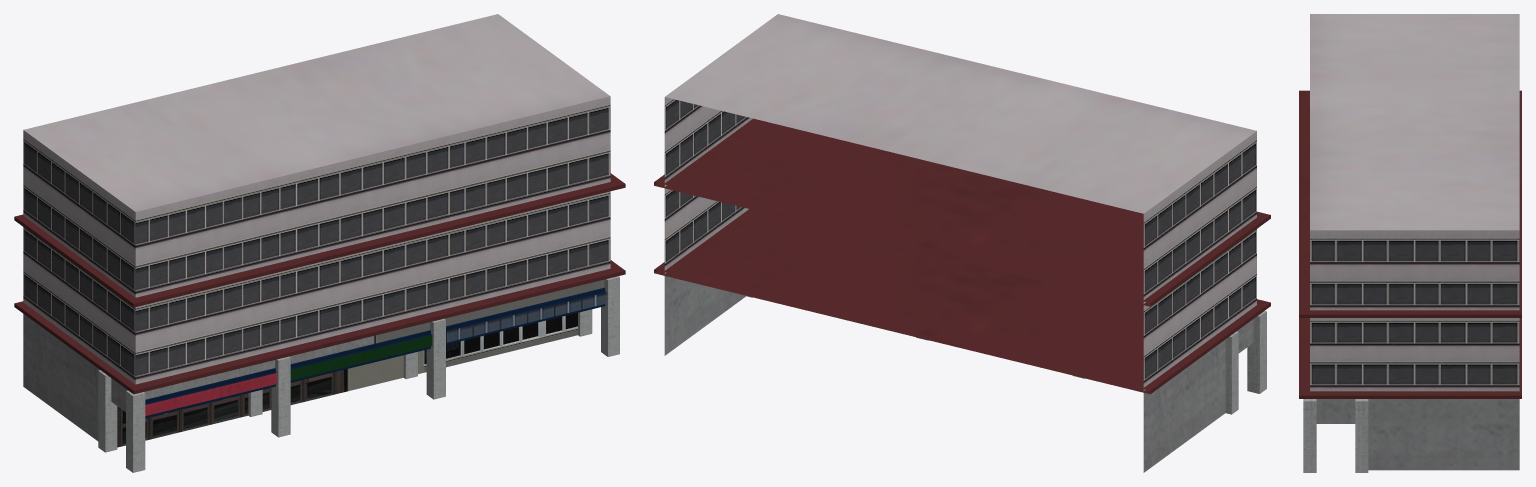
The model's file is Citybuilding04.fbx.
3 views of the same model, side by side, from view 1: azimuth 30°, elevation 25°; view 2: azimuth 150°, elevation 25°; view 3: azimuth 270°, elevation 25° (orthographic). The views are drawn at different scales.
Parts seen in each view (by area): view 1: Citybuilding04; view 2: Citybuilding04; view 3: Citybuilding04.
Part boxes in pixels (box(x1,y1,x2,y2)): Citybuilding04: box(14, 14, 625, 472); Citybuilding04: box(654, 14, 1270, 472); Citybuilding04: box(1299, 14, 1521, 472).
Size of the model in its own units: 4045 by 2018 by 1700.
